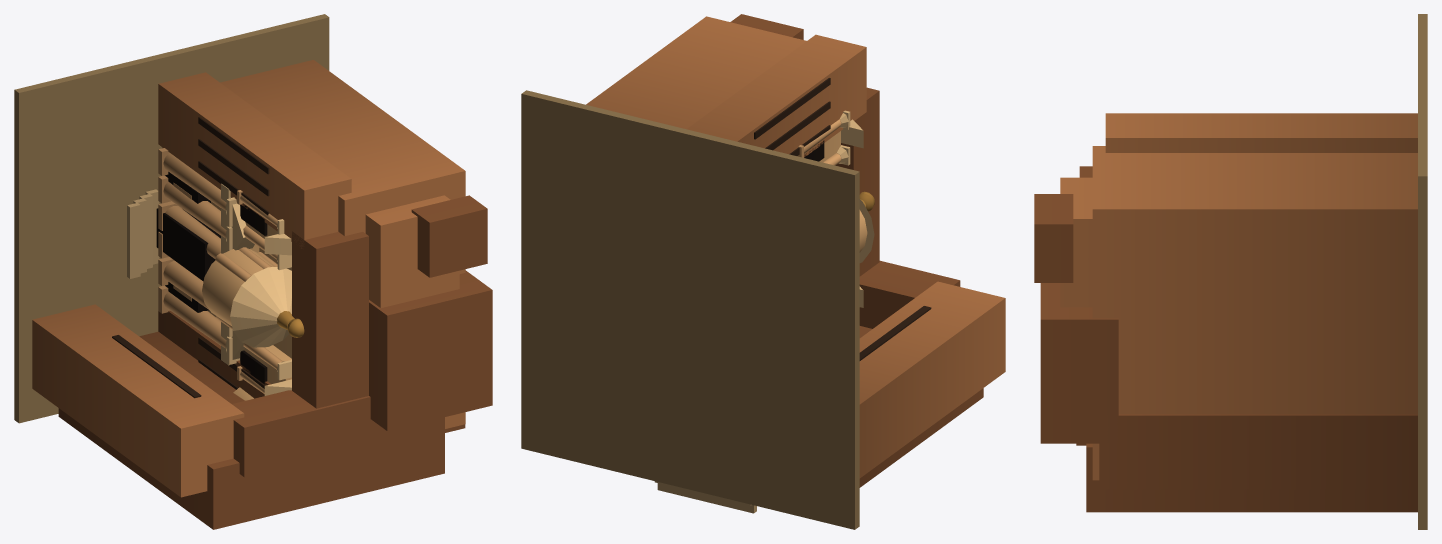
The model's file is petra.glb.
The picture shows the model from 3 angles, left to right: view 1: azimuth 30°, elevation 25°; view 2: azimuth 150°, elevation 25°; view 3: azimuth 270°, elevation 25°; orthographic projection. The views are drawn at different scales.
Visible parts, largest first — view 1: part-rock, part-rockShade, part-ground, part-trim, part-column, part-dark, part-facade, part-rockDeep; view 2: part-ground, part-rock, part-rockShade, part-trim, part-rockDeep, part-facade; view 3: part-rock, part-rockShade, part-ground.
Part boxes in pixels (bbox=[...]): part-rock: bbox=[32, 60, 465, 497]; part-rockShade: bbox=[58, 195, 492, 529]; part-ground: bbox=[14, 14, 329, 423]; part-trim: bbox=[127, 183, 291, 395]; part-column: bbox=[158, 148, 282, 393]; part-dark: bbox=[156, 171, 267, 384]; part-facade: bbox=[202, 201, 291, 400]; part-rockDeep: bbox=[112, 117, 269, 398]; part-ground: bbox=[521, 90, 859, 529]; part-rock: bbox=[586, 16, 1005, 478]; part-rockShade: bbox=[730, 14, 983, 487]; part-trim: bbox=[654, 110, 874, 513]; part-rockDeep: bbox=[754, 78, 931, 360]; part-facade: bbox=[819, 131, 867, 252]; part-rock: bbox=[1060, 113, 1417, 480]; part-rockShade: bbox=[1034, 166, 1417, 512]; part-ground: bbox=[1418, 14, 1427, 529].
Size of the model in its own units: 1.18 by 1.29 by 1.21.
